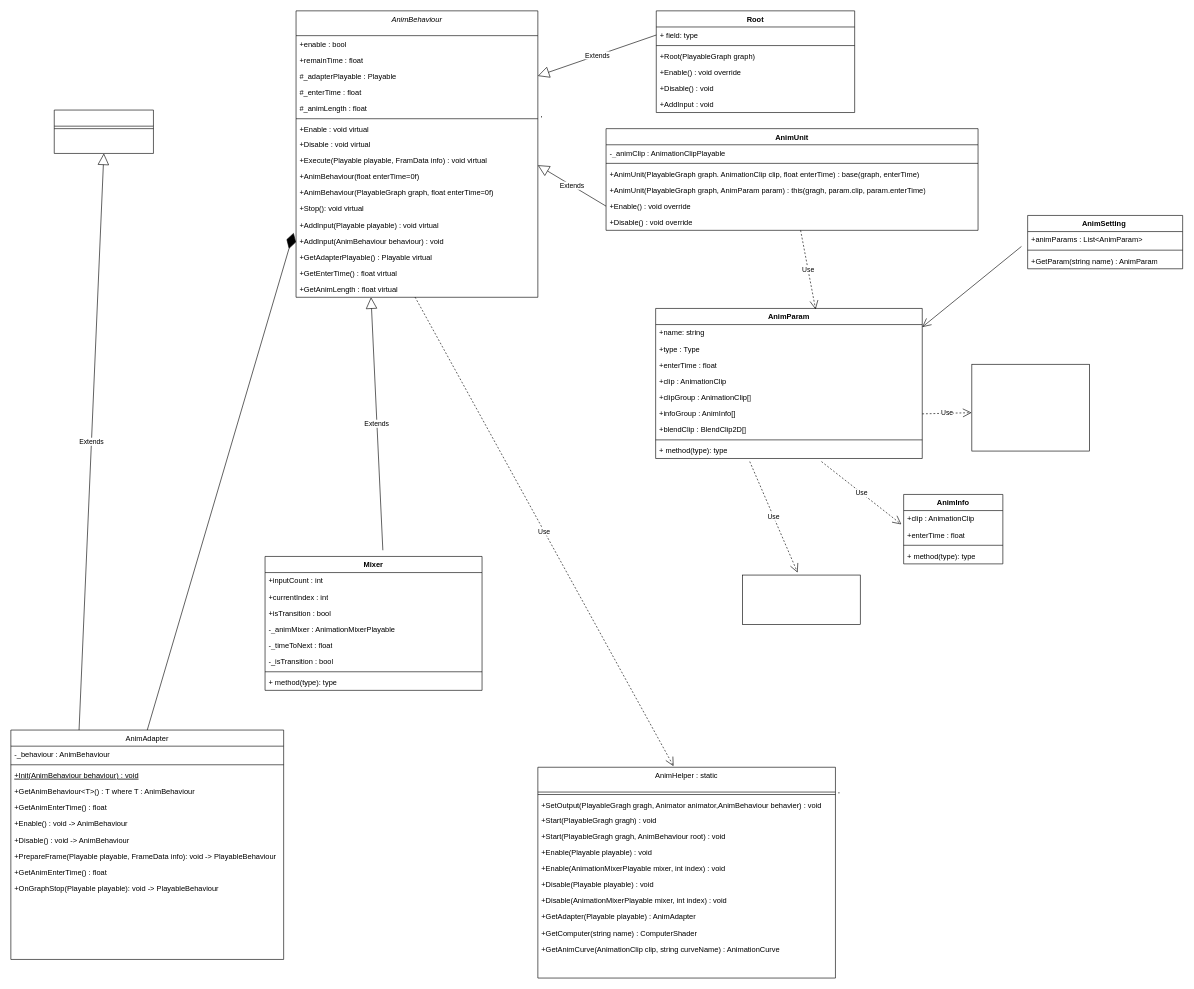
This 1194x989 diagram has some shape labels left out. The shapes that lost their labels are listed below. From the top down, each one's centre as x and y in pixels, then its label:
the point at 103,131: PlayableBehaviour
the point at 1030,407: <<enum>> Type Single, Group, InfoGroup, BlendClip
the point at 801,599: <<struct>> BlendClip2D +clip : AnimationClip +pos : Vector2
